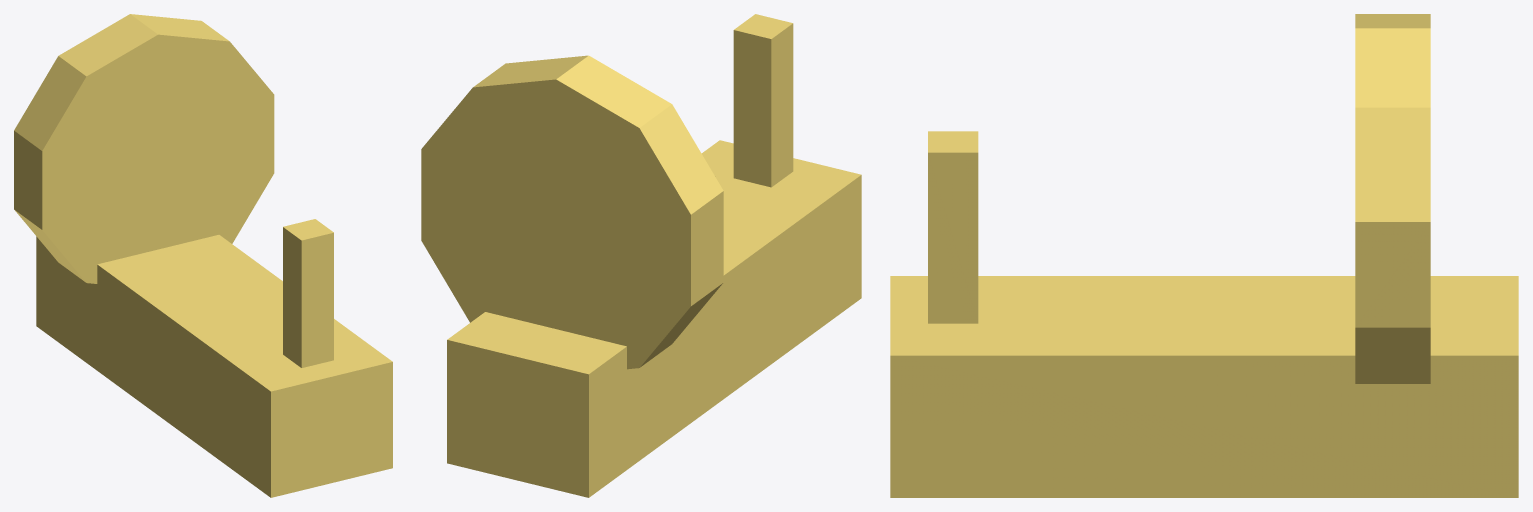
File: AttSight.fbx
3 renders of one model, left to right at view 1: azimuth 30°, elevation 25°; view 2: azimuth 150°, elevation 25°; view 3: azimuth 270°, elevation 25°, orthographic. The views are drawn at different scales.
Visible parts, largest first — view 1: Body; view 2: Body; view 3: Body.
Boxes of the visible parts, x1,y1,x2,y2 form: Body: (14, 14, 392, 497); Body: (421, 14, 861, 497); Body: (890, 14, 1518, 497).
Bounding box in the file's own units: 0.0571 × 0.0755 × 0.1.
